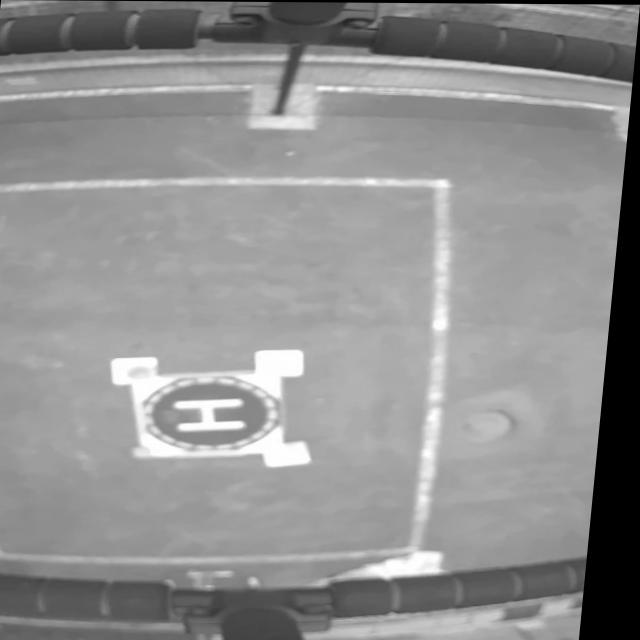Helipad: (180, 397, 254, 432)
